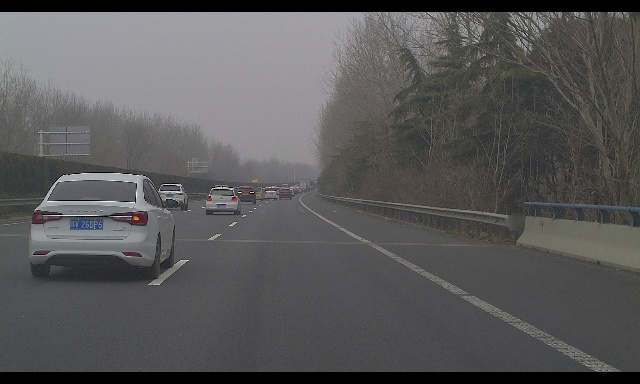car: (29, 172, 179, 279), (205, 187, 241, 215), (156, 183, 189, 210), (236, 186, 256, 205), (249, 187, 264, 201), (263, 187, 277, 200), (279, 188, 292, 199), (292, 189, 299, 195), (282, 184, 288, 190)
truck: (302, 179, 310, 192), (252, 179, 263, 186), (300, 182, 307, 192), (308, 181, 314, 190)
